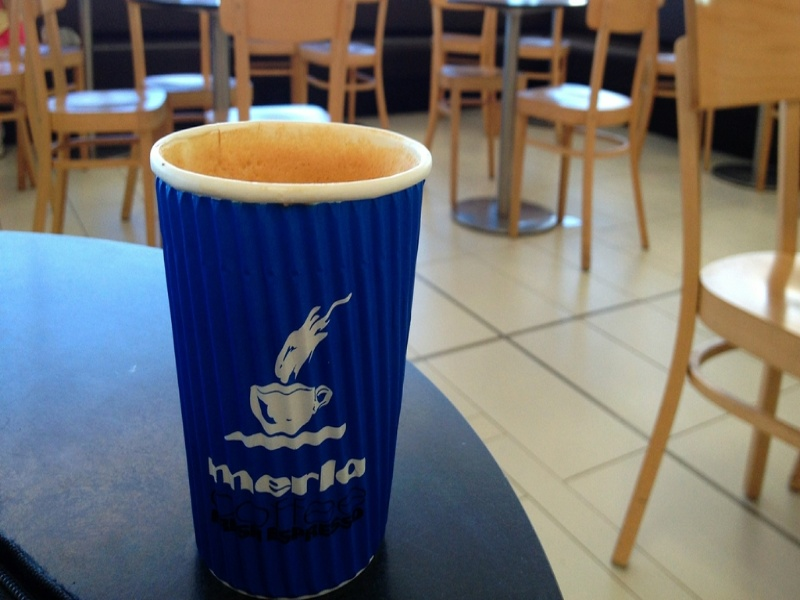chair: (613, 4, 799, 580), (524, 2, 662, 263), (7, 4, 159, 227), (408, 3, 503, 206)
